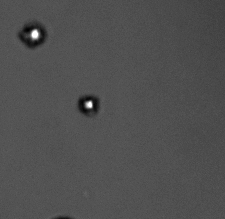Living Cell: (18, 22, 47, 49), (78, 95, 100, 116)
